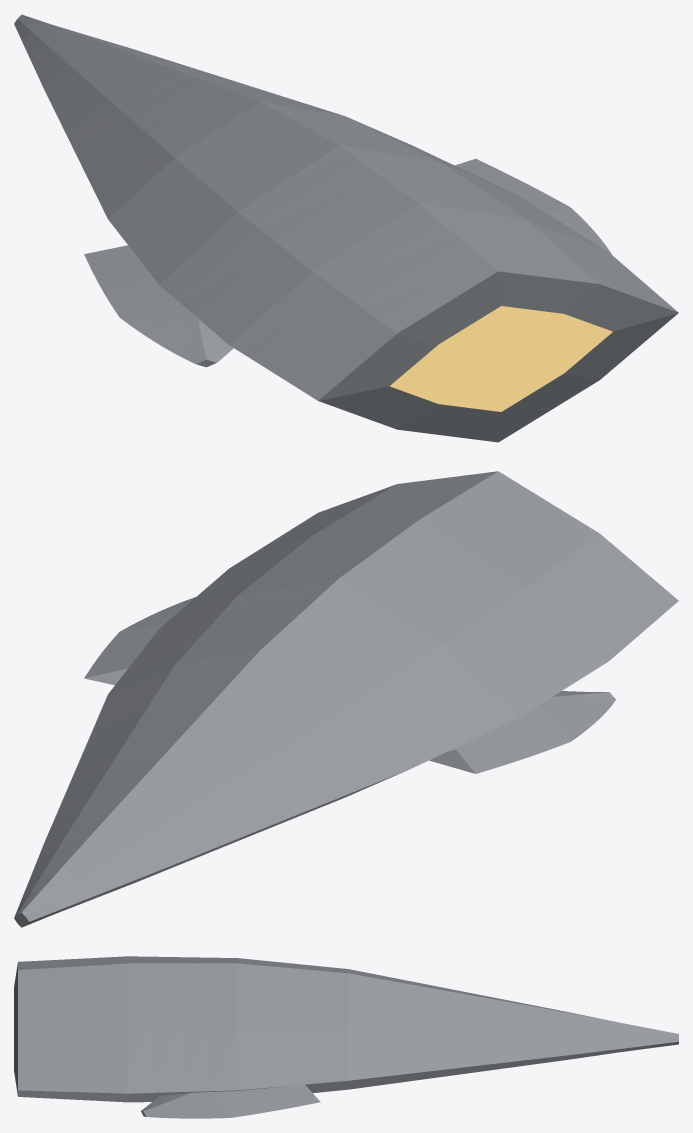
Rendered from kethran_ff.glb.
3 views of the same model, one above another, from view 1: azimuth 30°, elevation 25°; view 2: azimuth 150°, elevation 25°; view 3: azimuth 270°, elevation 25° (orthographic). The views are drawn at different scales.
Parts seen in each view (by area): view 1: hull_mesh, limb_0_mesh, limb_0_port_mesh; view 2: hull_mesh, limb_0_mesh, limb_0_port_mesh; view 3: hull_mesh, limb_0_port_mesh.
Part boxes in pixels (x1,y1,x2,y2): hull_mesh: [14, 14, 678, 442]; limb_0_mesh: [84, 245, 233, 367]; limb_0_port_mesh: [455, 158, 611, 254]; hull_mesh: [14, 471, 678, 927]; limb_0_mesh: [429, 691, 615, 773]; limb_0_port_mesh: [84, 597, 195, 685]; hull_mesh: [14, 956, 678, 1102]; limb_0_port_mesh: [141, 1084, 320, 1118].
Size of the model in its own units: 32.78 by 13.2 by 60.36.
